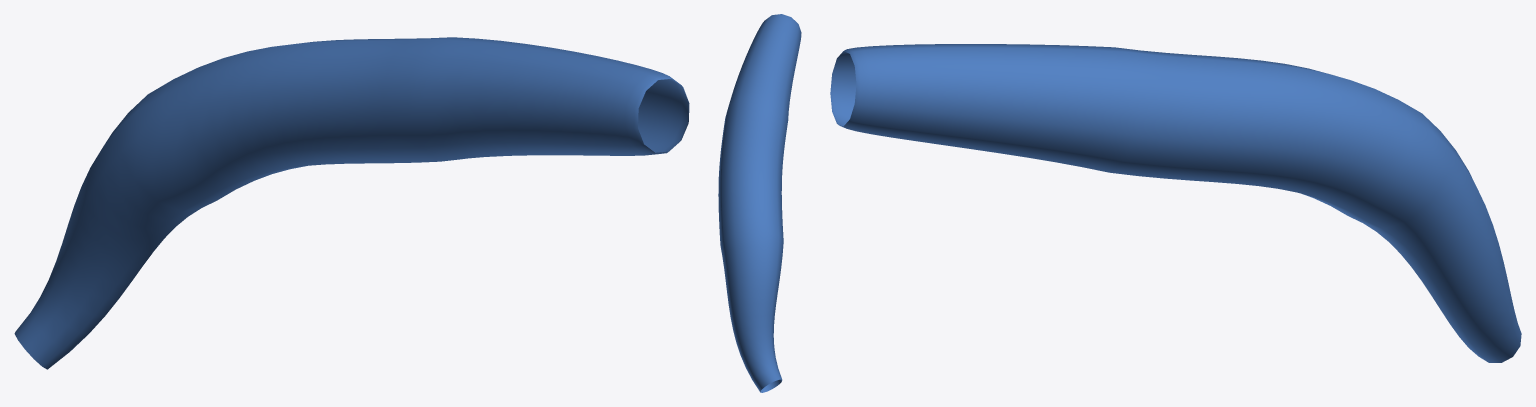
3 views of the same model, side by side, from view 1: azimuth 30°, elevation 25°; view 2: azimuth 150°, elevation 25°; view 3: azimuth 270°, elevation 25° (orthographic). The views are drawn at different scales.
Parts seen in each view (by area): view 1: 左侧乙状窦; view 2: 左侧乙状窦; view 3: 左侧乙状窦.
Part boxes in pixels (x1,y1,x2,y2): 左侧乙状窦: [14, 37, 689, 369]; 左侧乙状窦: [718, 14, 801, 392]; 左侧乙状窦: [830, 44, 1521, 362].
Bounding box in the file's own units: 0.0237 × 0.029 × 0.0402.
